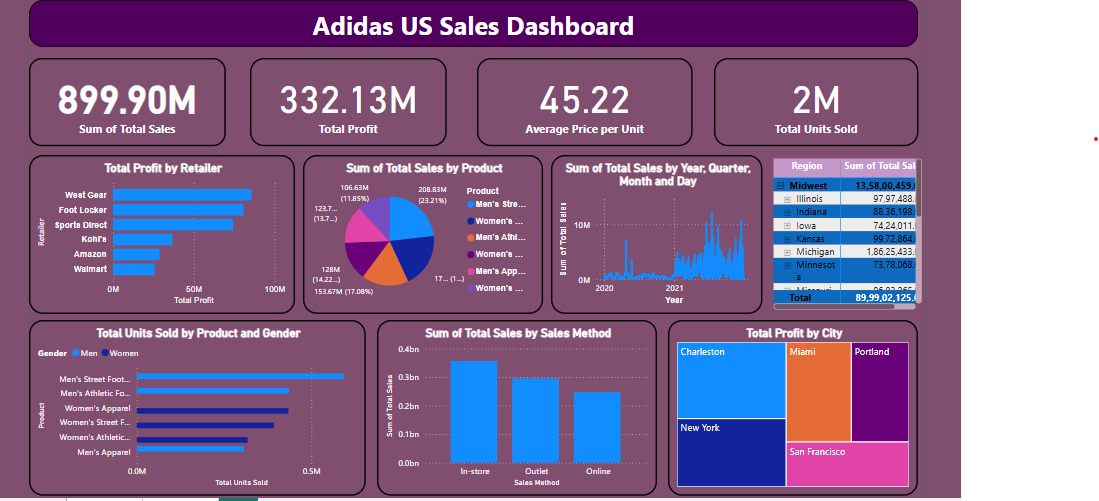

The page's visual inventory and layout, read from the dashboard file:
{"tool":"powerbi","page":{"name":"Page 1","canvas":[1280,720],"ordinal":0},"visuals":[{"type":"card","fields":{"Values":["Sum(Data Sales Adidas.Total Sales)"]},"box":[0,82.2,280.7,126.2],"z":0},{"type":"card","fields":{"Values":["Data Sales Adidas.Total Profit"]},"box":[316.1,82.2,280.7,126.2],"z":1000},{"type":"card","fields":{"Values":["Data Sales Adidas.Average Price per Unit"]},"box":[640.7,82.2,307.6,126.2],"z":2000},{"type":"card","fields":{"Values":["Data Sales Adidas.Total Units Sold"]},"box":[978.1,82.2,292,126.2],"z":3000},{"type":"clusteredBarChart","fields":{"Category":["Data Sales Adidas.Retailer"],"Y":["Data Sales Adidas.Total Profit"]},"box":[0,221.1,379.9,226.8],"z":4000},{"type":"pieChart","fields":{"Category":["Data Sales Adidas.Product"],"Y":["Sum(Data Sales Adidas.Total Sales)"]},"box":[391.2,221.1,343,226.8],"z":5000},{"type":"clusteredBarChart","fields":{"Category":["Data Sales Adidas.Product"],"Y":["Data Sales Adidas.Total Units Sold"],"Series":["Data Sales Adidas.Gender"]},"box":[0,457.9,480.5,250.9],"z":6000},{"type":"clusteredColumnChart","fields":{"Y":["Sum(Data Sales Adidas.Total Sales)"],"Category":["Data Sales Adidas.Sales Method"]},"box":[497.5,457.9,399.7,250.9],"z":7000},{"type":"pivotTable","fields":{"Rows":["Data Sales Adidas.Region","Data Sales Adidas.State","Data Sales Adidas.City"],"Values":["Sum(Data Sales Adidas.Total Sales)"]},"box":[1058.4,221.8,221.8,226.1],"z":8000},{"type":"treemap","fields":{"Group":["Data Sales Adidas.City"],"Values":["Data Sales Adidas.Total Profit"]},"box":[912.9,457.9,357.2,250.9],"z":9000},{"type":"lineChart","fields":{"Category":["Data Sales Adidas.Invoice Date.Variation.Date Hierarchy.Year","Data Sales Adidas.Invoice Date.Variation.Date Hierarchy.Quarter","Data Sales Adidas.Invoice Date.Variation.Date Hierarchy.Month","Data Sales Adidas.Invoice Date.Variation.Date Hierarchy.Day"],"Y":["Sum(Data Sales Adidas.Total Sales)"]},"box":[745.6,221.1,301.9,226.8],"z":10000},{"type":"shape","box":[0,0,1270.1,66.6],"z":11000}]}

Visuals, with their boxes on the page's 1280x720 design canvas (x1, y1, x2, y2). These are canvas units, not pixel positions in the 1099x501 screenshot, which may show the page scaled, cropped or inside an application window:
card - Sum(Data Sales Adidas.Total Sales): [x1=0, y1=82, x2=281, y2=208]
card - Data Sales Adidas.Total Profit: [x1=316, y1=82, x2=597, y2=208]
card - Data Sales Adidas.Average Price per Unit: [x1=641, y1=82, x2=948, y2=208]
card - Data Sales Adidas.Total Units Sold: [x1=978, y1=82, x2=1270, y2=208]
clusteredBarChart - Data Sales Adidas.Retailer x Data Sales Adidas.Total Profit: [x1=0, y1=221, x2=380, y2=448]
pieChart - Data Sales Adidas.Product x Sum(Data Sales Adidas.Total Sales): [x1=391, y1=221, x2=734, y2=448]
clusteredBarChart - Data Sales Adidas.Product x Data Sales Adidas.Total Units Sold: [x1=0, y1=458, x2=480, y2=709]
clusteredColumnChart - Sum(Data Sales Adidas.Total Sales) x Data Sales Adidas.Sales Method: [x1=498, y1=458, x2=897, y2=709]
pivotTable - Data Sales Adidas.Region x Data Sales Adidas.State: [x1=1058, y1=222, x2=1280, y2=448]
treemap - Data Sales Adidas.City x Data Sales Adidas.Total Profit: [x1=913, y1=458, x2=1270, y2=709]
lineChart - Data Sales Adidas.Invoice Date.Variation.Date Hierarchy.Year x Data Sales Adidas.Invoice Date.Variation.Date Hierarchy.Quarter: [x1=746, y1=221, x2=1048, y2=448]
shape: [x1=0, y1=0, x2=1270, y2=67]
